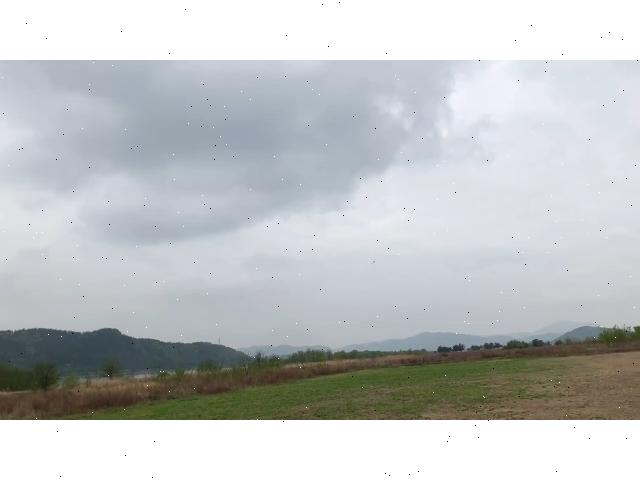Anti-Drone: (368, 257, 380, 267)
